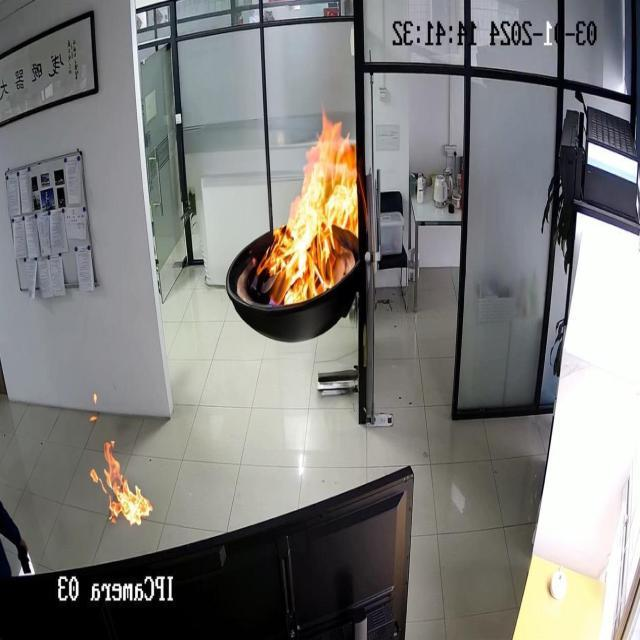smoke: (257, 107, 360, 304), (90, 430, 152, 532)
